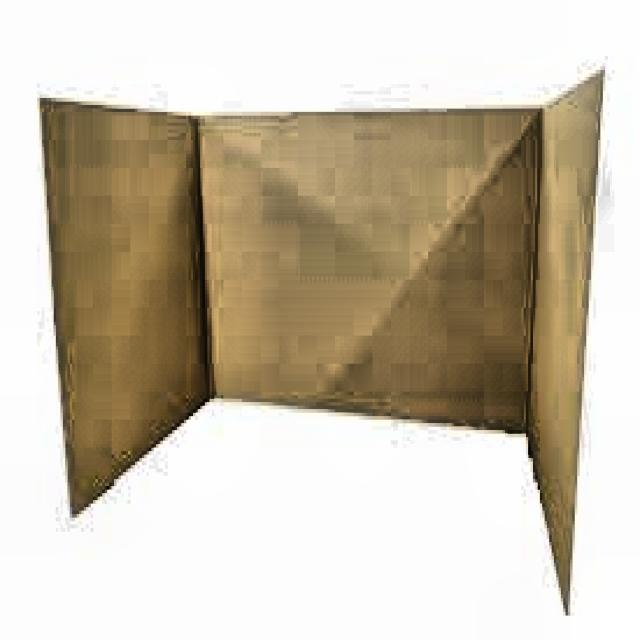Cardbox: (18, 79, 598, 628)
